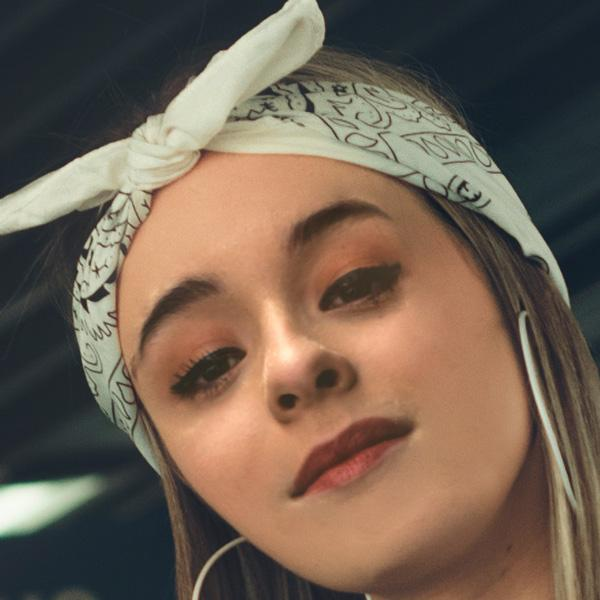Eyes: (315, 244, 411, 319), (164, 331, 256, 409)
